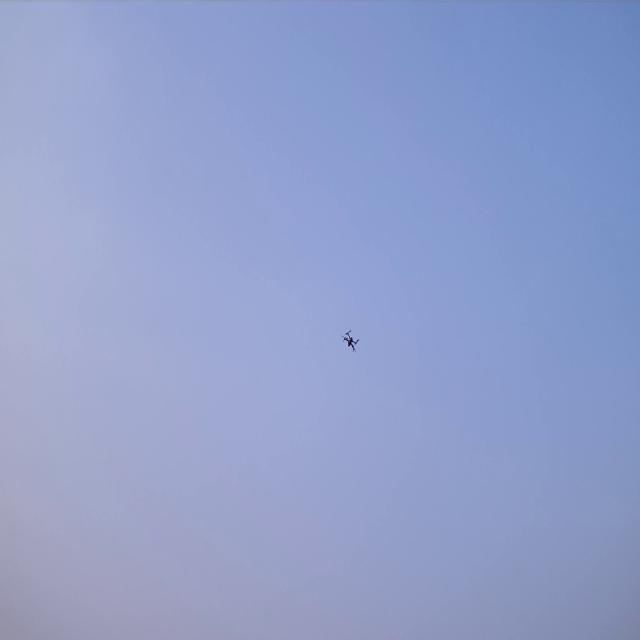UAV: (340, 328, 360, 353)
